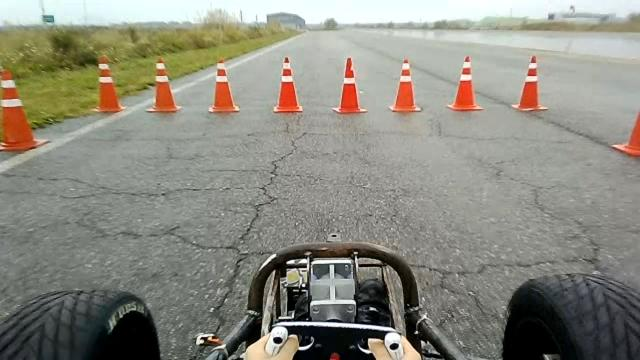red cone: (0, 67, 50, 151), (270, 50, 306, 115), (331, 56, 368, 114), (145, 56, 183, 112), (511, 55, 548, 111), (446, 55, 483, 111), (91, 54, 126, 113), (388, 58, 422, 112), (208, 57, 240, 113)
